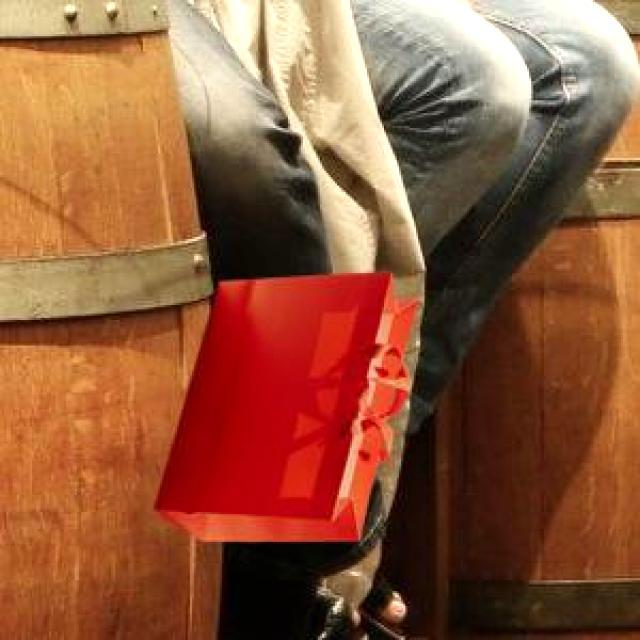Paper_Bag: (152, 270, 415, 539)
